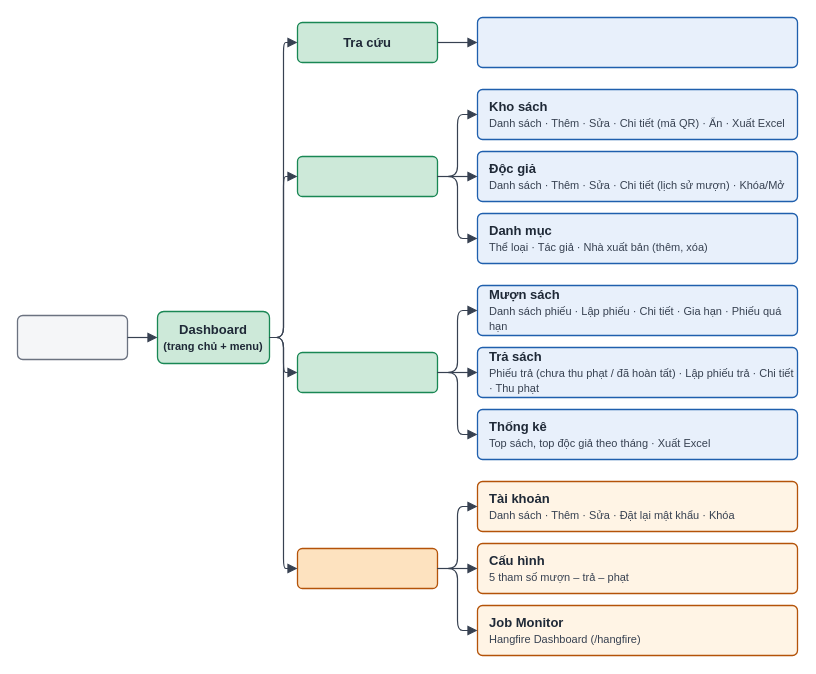
The diagram is 816 pixels wide and 674 high, and some of its shapes have lost their labels. Each missing label, with the centre of its shape:
"Hệ thống (chỉ Admin)" goes at (x=367, y=568).
"Nghiệp vụ" goes at (x=367, y=372).
"Quản lý sách" goes at (x=367, y=176).
"Tìm kiếm sách Từ khóa, thể loại, chỉ sách còn tồn kho" goes at (x=637, y=42).
"Đăng nhập" goes at (x=72, y=337).
